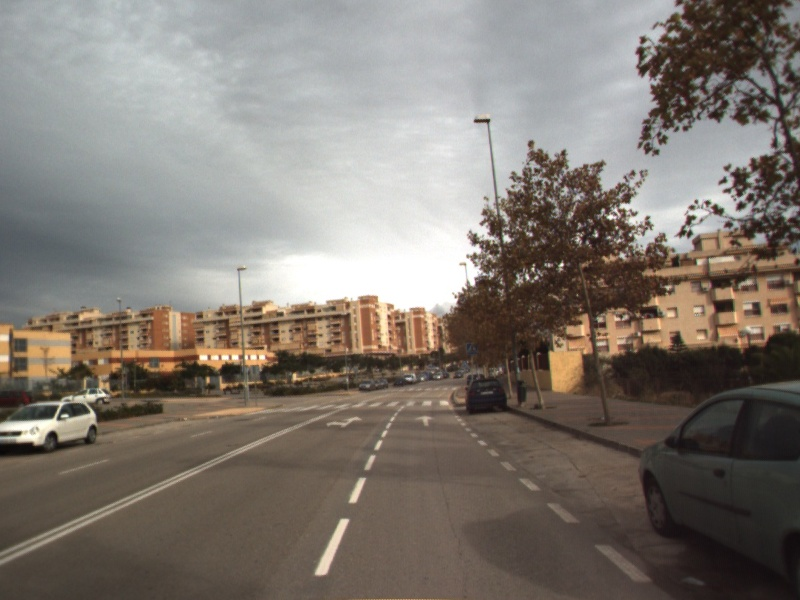STRAIGHT: (413, 413, 436, 428)
STRAIGHT_LEFT: (324, 414, 364, 430)
